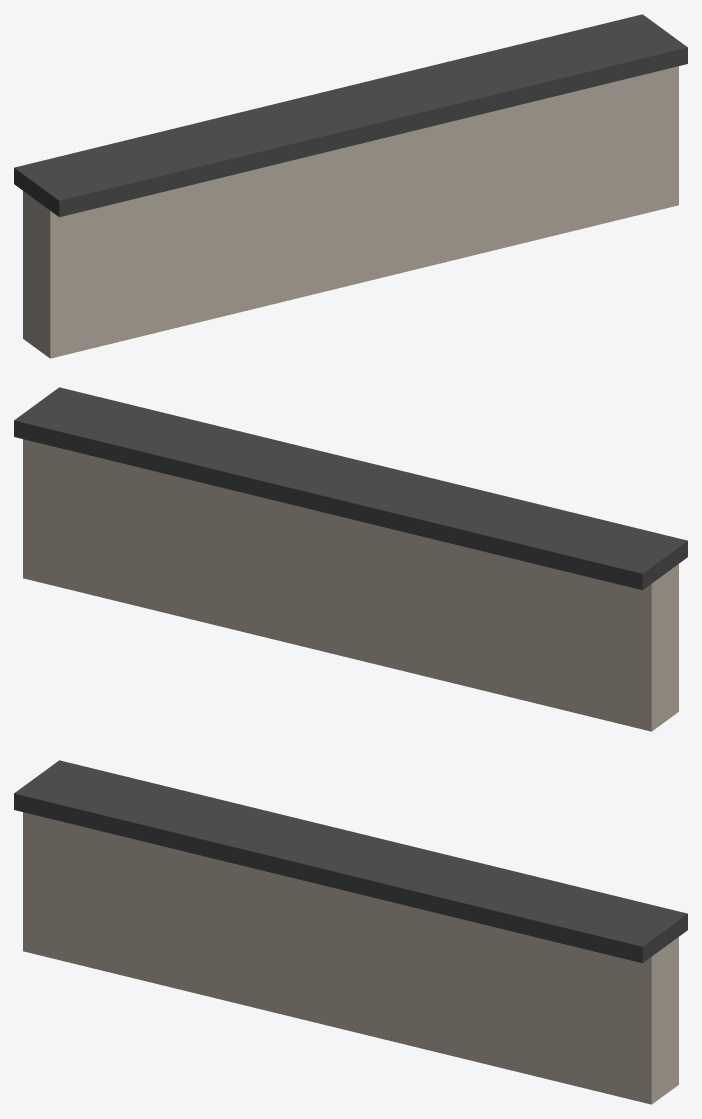
File: KIT_RoofParapet_4m_Plaster.glb
The picture shows the model from 3 angles, top to bottom: view 1: azimuth 30°, elevation 25°; view 2: azimuth 150°, elevation 25°; view 3: azimuth 330°, elevation 25°; orthographic projection.
Visible parts, largest first — view 1: KIT_RoofParapet_4m_Plaster; view 2: KIT_RoofParapet_4m_Plaster; view 3: KIT_RoofParapet_4m_Plaster.
Part boxes in pixels (x1,y1,x2,y2): KIT_RoofParapet_4m_Plaster: (14,14,687,358); KIT_RoofParapet_4m_Plaster: (14,387,687,731); KIT_RoofParapet_4m_Plaster: (14,760,687,1104).
Bounding box in the file's own units: 4 × 1 × 0.5.
